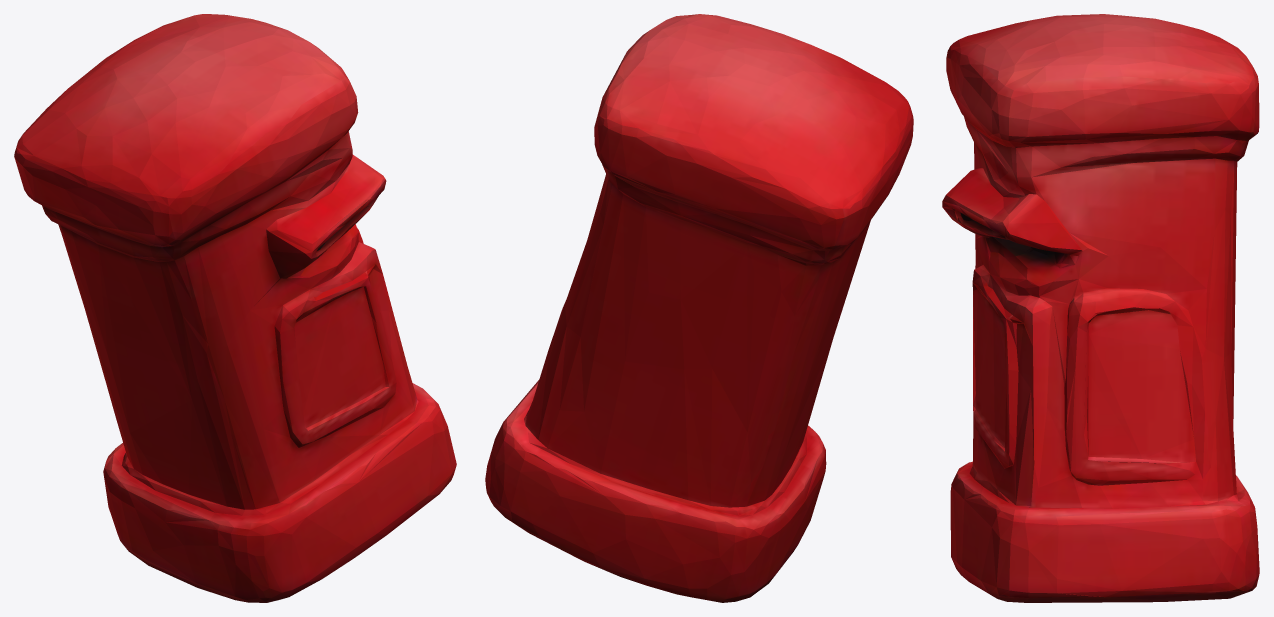
Rendered from mailbox.glb.
3 views of the same model, side by side, from view 1: azimuth 30°, elevation 25°; view 2: azimuth 150°, elevation 25°; view 3: azimuth 270°, elevation 25° (orthographic). The views are drawn at different scales.
Visible parts, largest first — view 1: geometry_0; view 2: geometry_0; view 3: geometry_0.
Boxes of the visible parts, x1=… form: geometry_0: x1=14, y1=14, x2=456, y2=602; geometry_0: x1=485, y1=14, x2=913, y2=602; geometry_0: x1=942, y1=14, x2=1259, y2=602.
Bounding box in the file's own units: 0.7529 × 0.9992 × 0.5225.
1 material, 1 textured.
